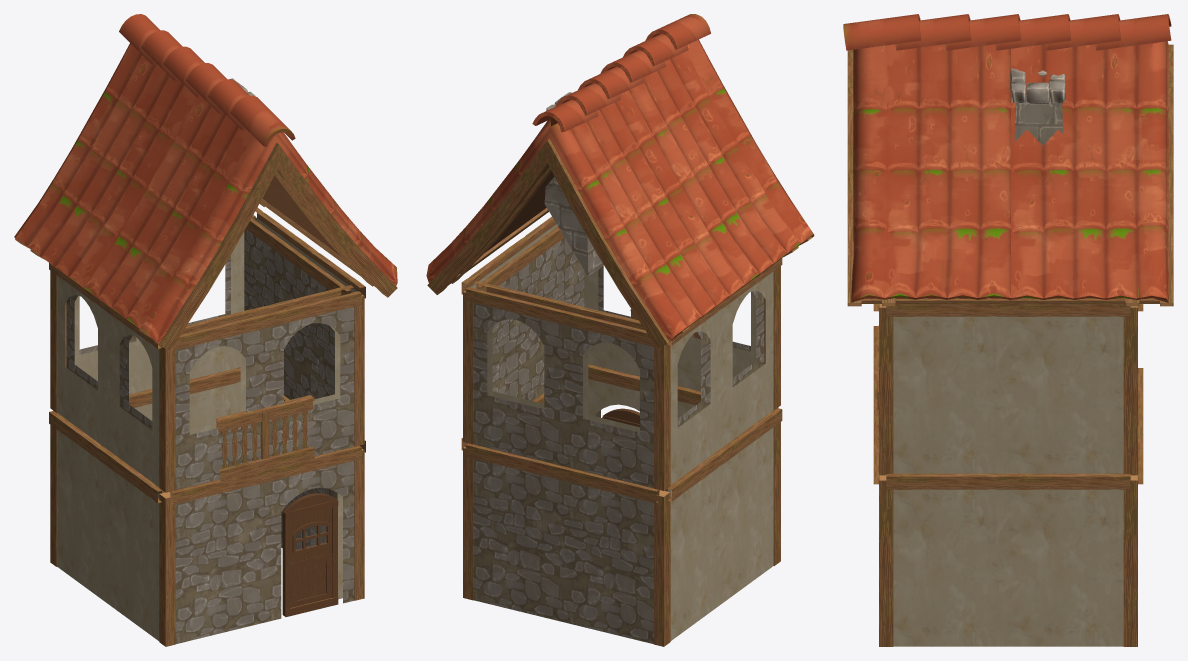
Rendered from House_StoneB.fbx.
3 renders of one model, left to right at view 1: azimuth 30°, elevation 25°; view 2: azimuth 150°, elevation 25°; view 3: azimuth 270°, elevation 25°, orthographic. The views are drawn at different scales.
Visible parts, largest first — view 1: House_StoneB; view 2: House_StoneB; view 3: House_StoneB.
Part boxes in pixels (box(x1,y1,x2,y2)): House_StoneB: box(14, 14, 397, 646); House_StoneB: box(426, 14, 814, 646); House_StoneB: box(843, 14, 1173, 646).
Bounding box in the file's own units: 540 × 1040 × 540.
